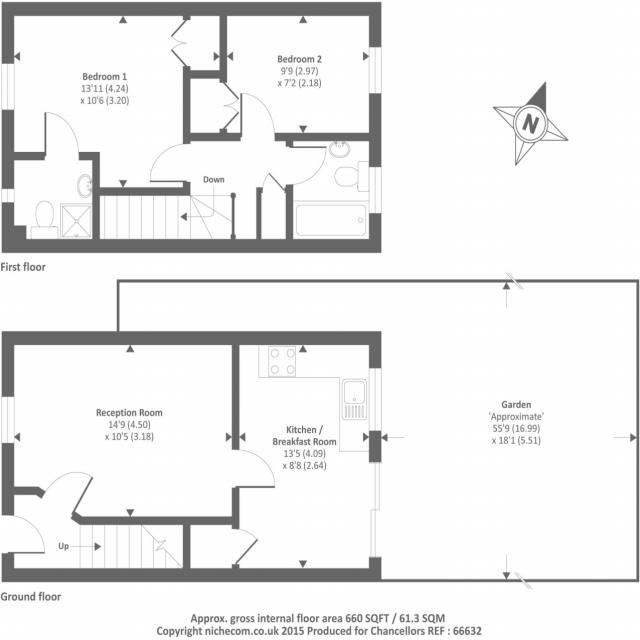DOOR: (37, 468, 97, 522), (229, 446, 279, 491), (238, 90, 279, 142), (44, 109, 83, 163), (145, 141, 192, 185), (282, 144, 329, 188), (1, 513, 48, 556), (230, 524, 262, 567)
ROOM: (0, 330, 279, 526), (231, 330, 384, 583), (0, 1, 192, 198), (183, 0, 383, 142)
WINDOW: (367, 365, 383, 433), (0, 61, 17, 115), (367, 43, 384, 96), (367, 165, 383, 215), (0, 187, 17, 205)
